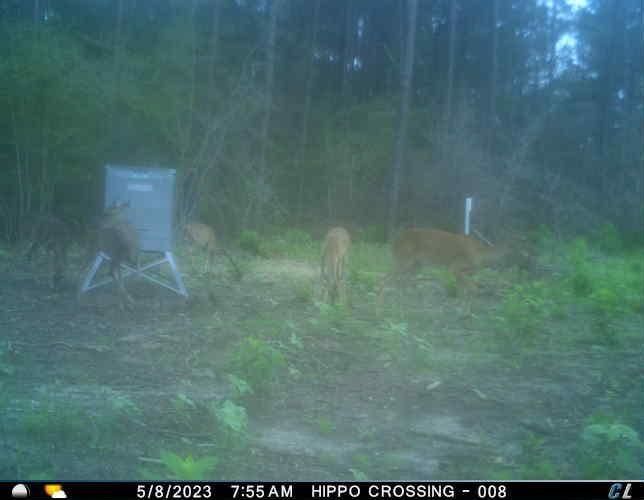Deer: (375, 224, 536, 326), (76, 194, 146, 314), (14, 209, 86, 293), (181, 217, 243, 279), (314, 225, 358, 312)
